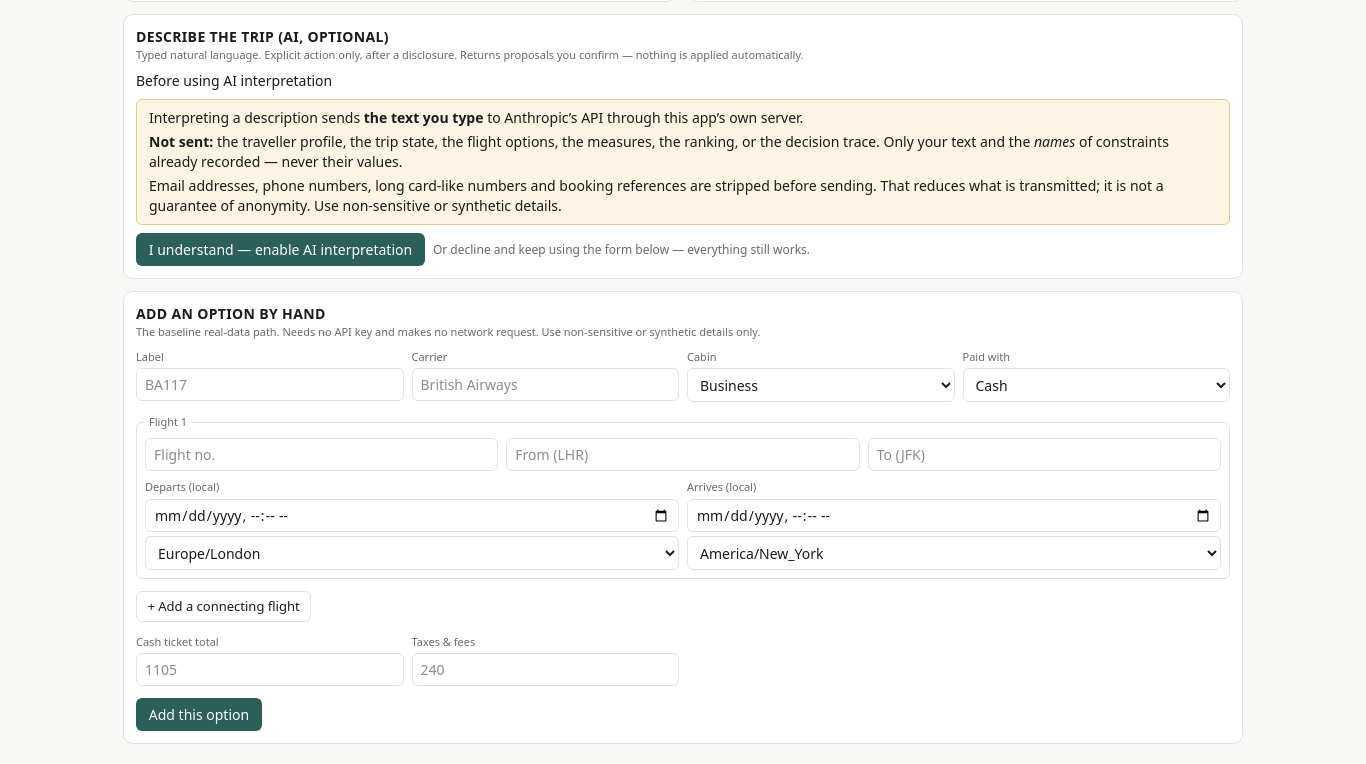
Test case: the deterministic workflow when AI is unavailable › manual option entry remains available and needs no AI
The image size is (1366, 764).
(page scrolled)
Expected: the field with placeholder "BA117" is shown, [136,368,404,401]
Click the button "Add this option".
click(199, 715)  # box [136,698,262,731]
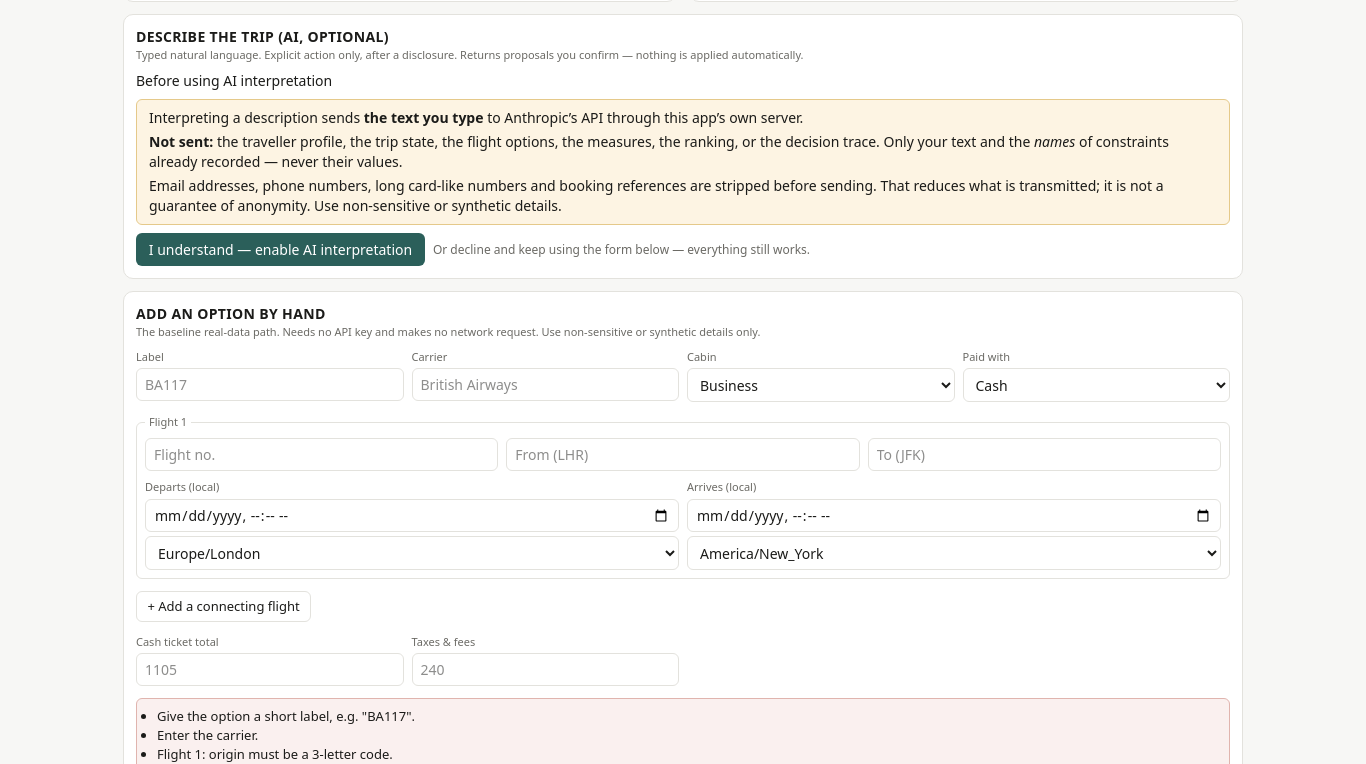
Expected: the list item "Give the option a short label, e.g. \"BA117\"." is shown, [157,707,415,725]
